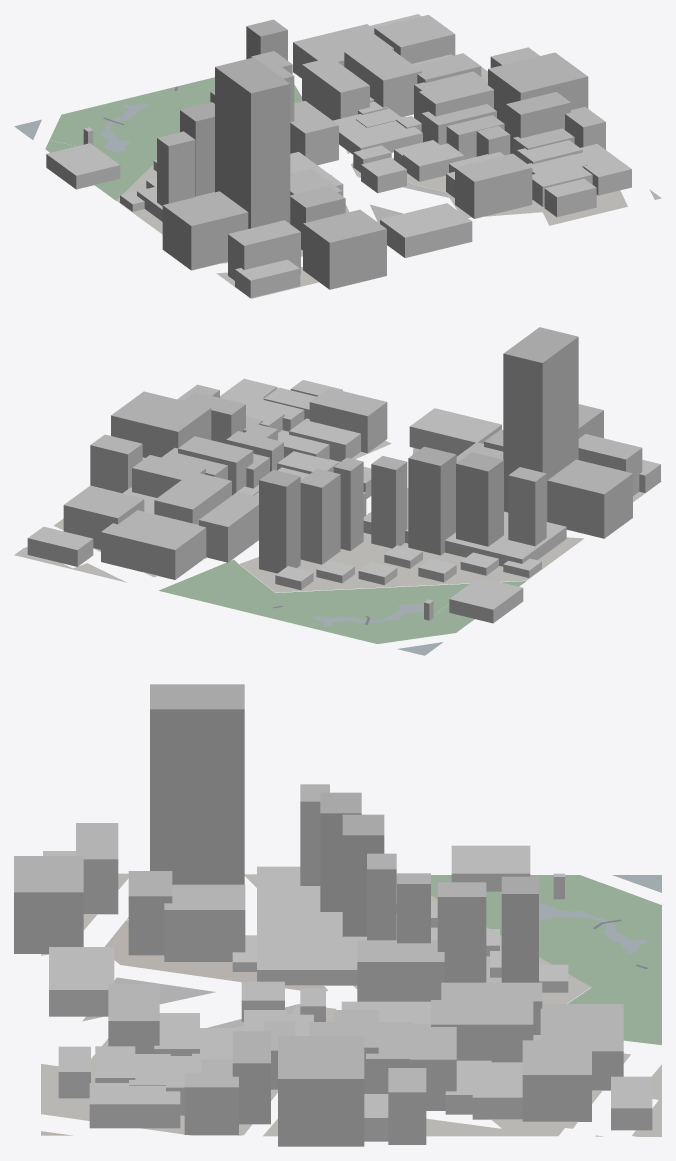
File: 125_103_mid.glb
3 renders of one model, top to bottom at view 1: azimuth 30°, elevation 25°; view 2: azimuth 150°, elevation 25°; view 3: azimuth 270°, elevation 25°, orthographic. The views are drawn at different scales.
Bounding box in the file's own units: 542 × 193 × 522.
